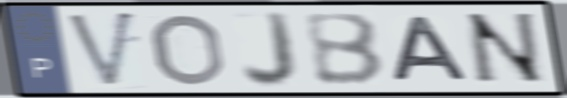A: (388, 14, 473, 84)
B: (299, 11, 388, 88)
J: (238, 8, 300, 90)
N: (461, 10, 550, 87)
O: (149, 12, 229, 88)
V: (63, 8, 139, 91)
